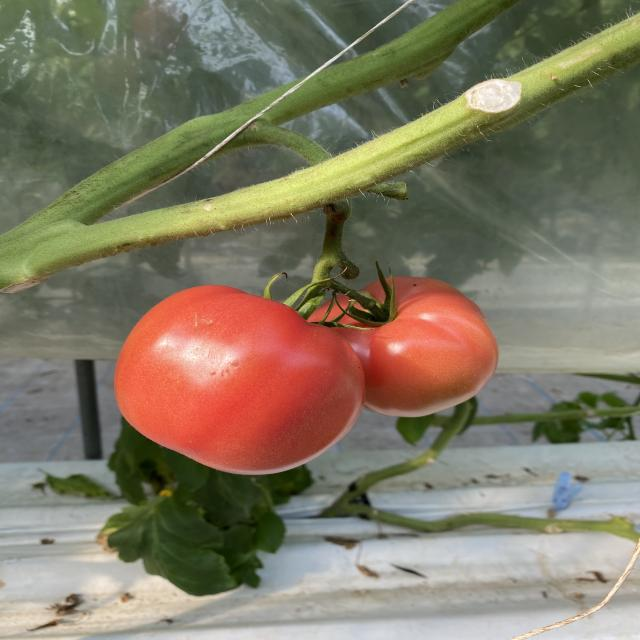n-riped: (114, 286, 366, 476), (304, 275, 498, 417)
